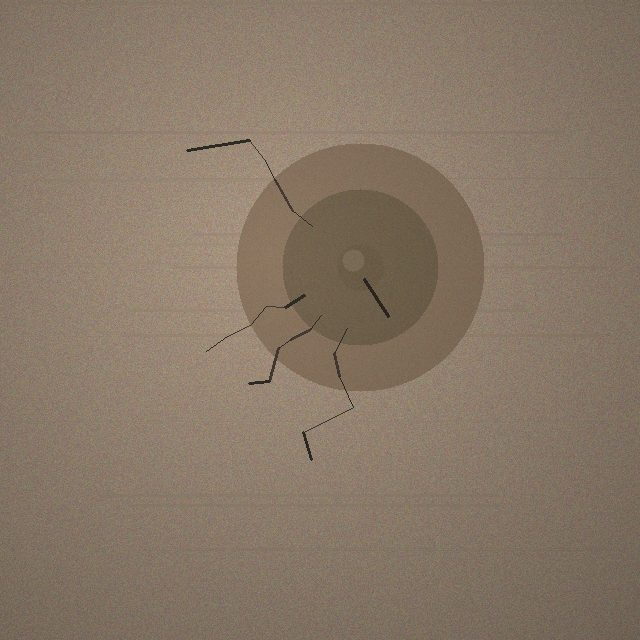crack: (236, 143, 484, 391)
